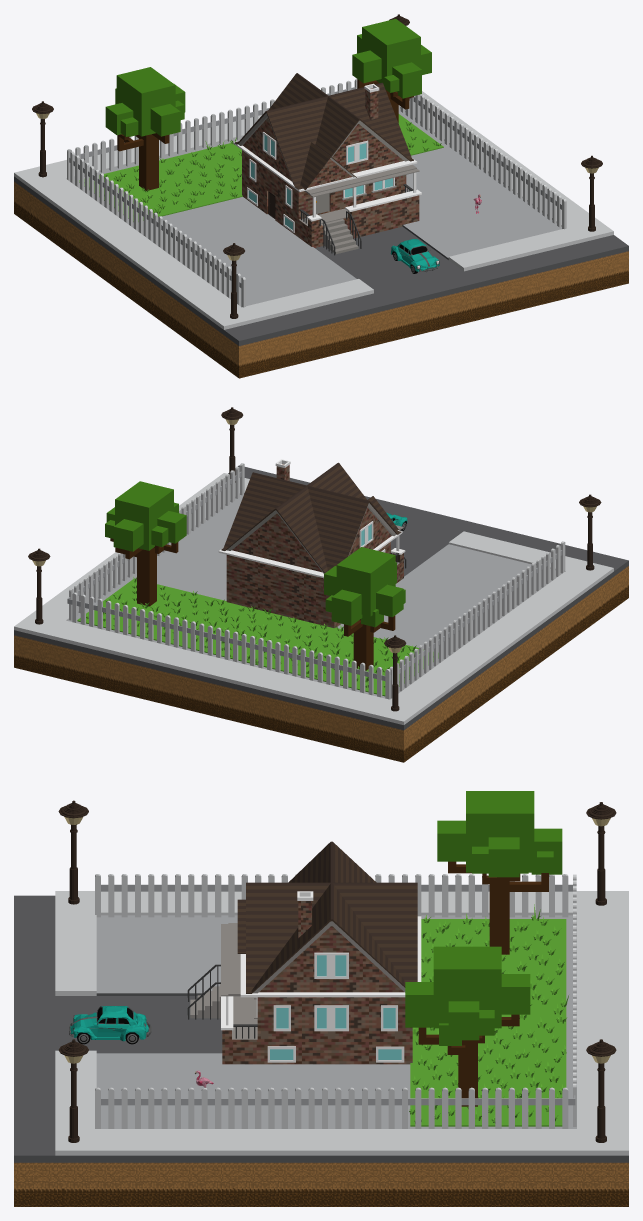
3 views of the same model, one above another, from view 1: azimuth 30°, elevation 25°; view 2: azimuth 150°, elevation 25°; view 3: azimuth 270°, elevation 25° (orthographic). The views are drawn at different scales.
Parts seen in each view (by area): view 1: Cube.004, Cube.117, VEHICLES_VOLKSWAGEN; view 2: Cube.004, Cube.117; view 3: Cube.004, Cube.117, VEHICLES_VOLKSWAGEN.
Boxes of the visible parts, x1=… form: Cube.004: x1=14, y1=14, x2=628, y2=378; Cube.117: x1=233, y1=73, x2=421, y2=255; VEHICLES_VOLKSWAGEN: x1=390, y1=239, x2=439, y2=273; Cube.004: x1=14, y1=407, x2=628, y2=762; Cube.117: x1=218, y1=459, x2=406, y2=627; Cube.004: x1=14, y1=791, x2=628, y2=1206; Cube.117: x1=187, y1=841, x2=421, y2=1064; VEHICLES_VOLKSWAGEN: x1=69, y1=1006, x2=151, y2=1044.
Bounding box in the file's own units: 4000 × 1702 × 4000.
30 materials, 4 textured.
